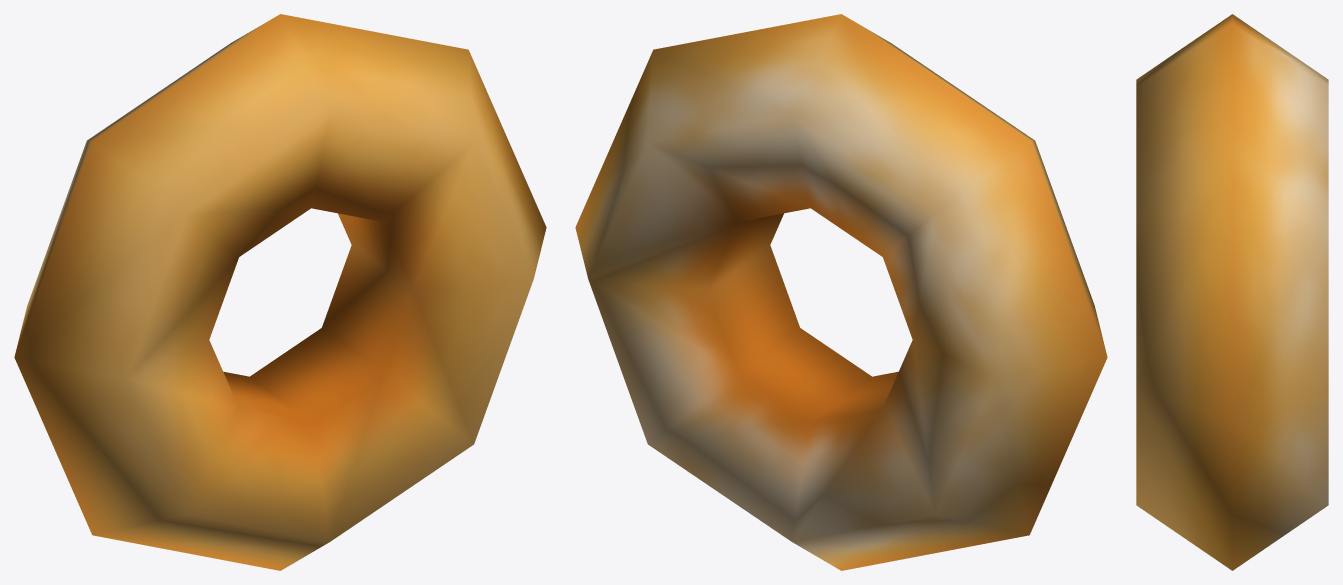
File: Donut.fbx
3 views of the same model, side by side, from view 1: azimuth 30°, elevation 25°; view 2: azimuth 150°, elevation 25°; view 3: azimuth 270°, elevation 25° (orthographic). The views are drawn at different scales.
Parts seen in each view (by area): view 1: Donut; view 2: Donut; view 3: Donut.
Part boxes in pixels (x1,y1,x2,y2): Donut: [14, 14, 546, 570]; Donut: [575, 14, 1107, 570]; Donut: [1136, 14, 1328, 570].
Size of the model in its own units: 13.03 by 4.23 by 13.03.
